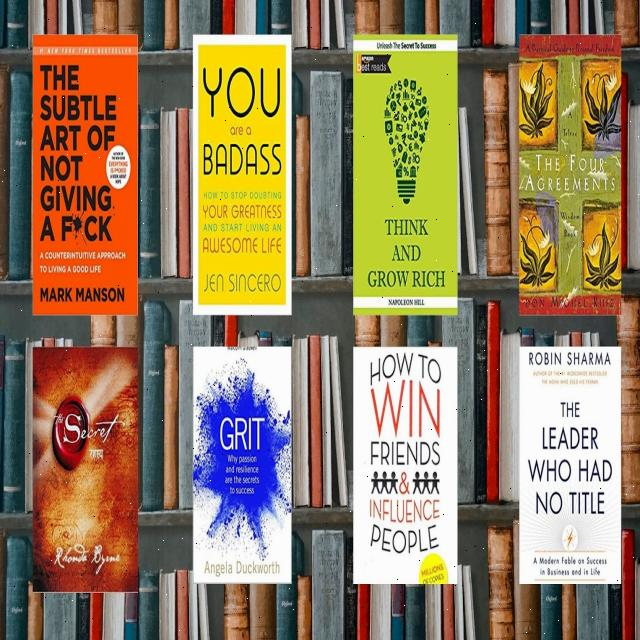book: (33, 34, 140, 314), (517, 37, 622, 320), (353, 35, 457, 315), (194, 34, 293, 314), (32, 344, 140, 590), (192, 346, 294, 581), (518, 347, 621, 578), (348, 352, 439, 581)
